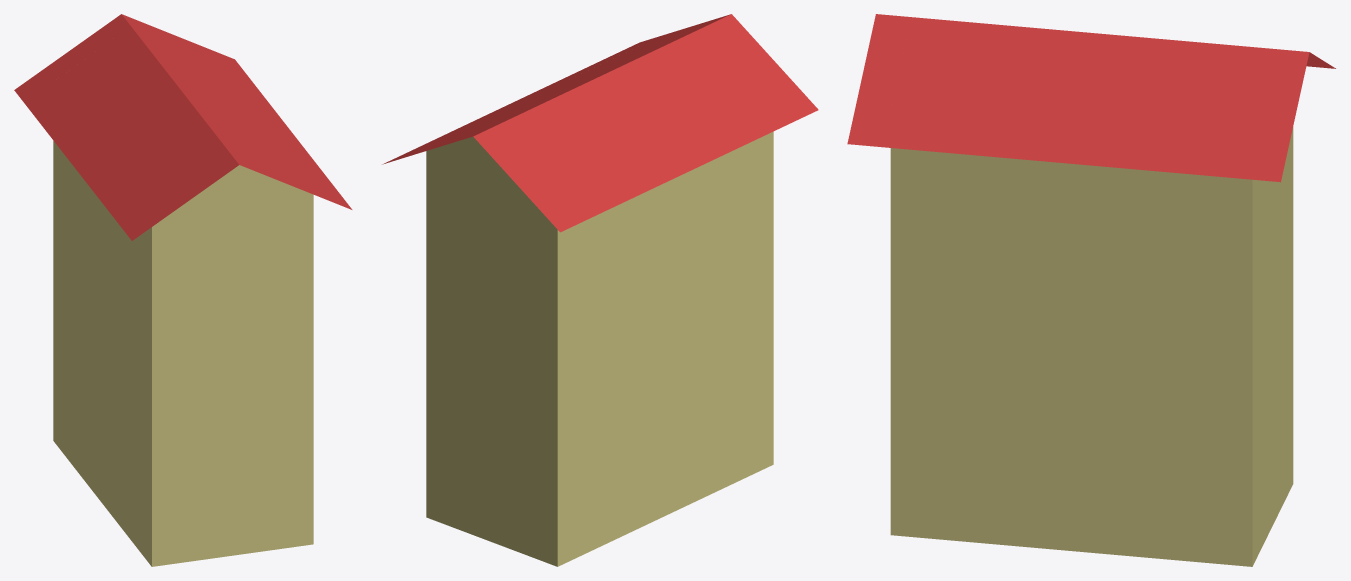
3 renders of one model, left to right at view 1: azimuth 30°, elevation 25°; view 2: azimuth 150°, elevation 25°; view 3: azimuth 270°, elevation 25°, orthographic. The views are drawn at different scales.
Size of the model in its own units: 4.89 by 6.68 by 7.15.
